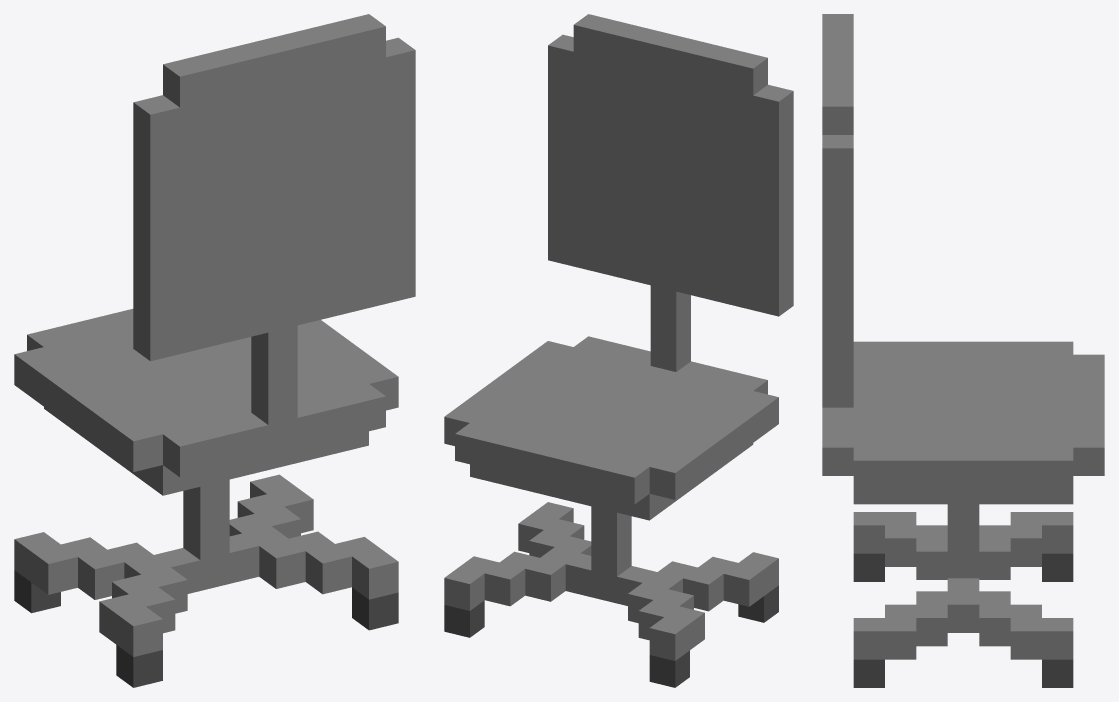
The model's file is chair.obj.
The picture shows the model from 3 angles, left to right: view 1: azimuth 30°, elevation 25°; view 2: azimuth 150°, elevation 25°; view 3: azimuth 270°, elevation 25°; orthographic projection. The views are drawn at different scales.
Size of the model in its own units: 0.9 by 2 by 0.9.
1 material, 1 textured.
